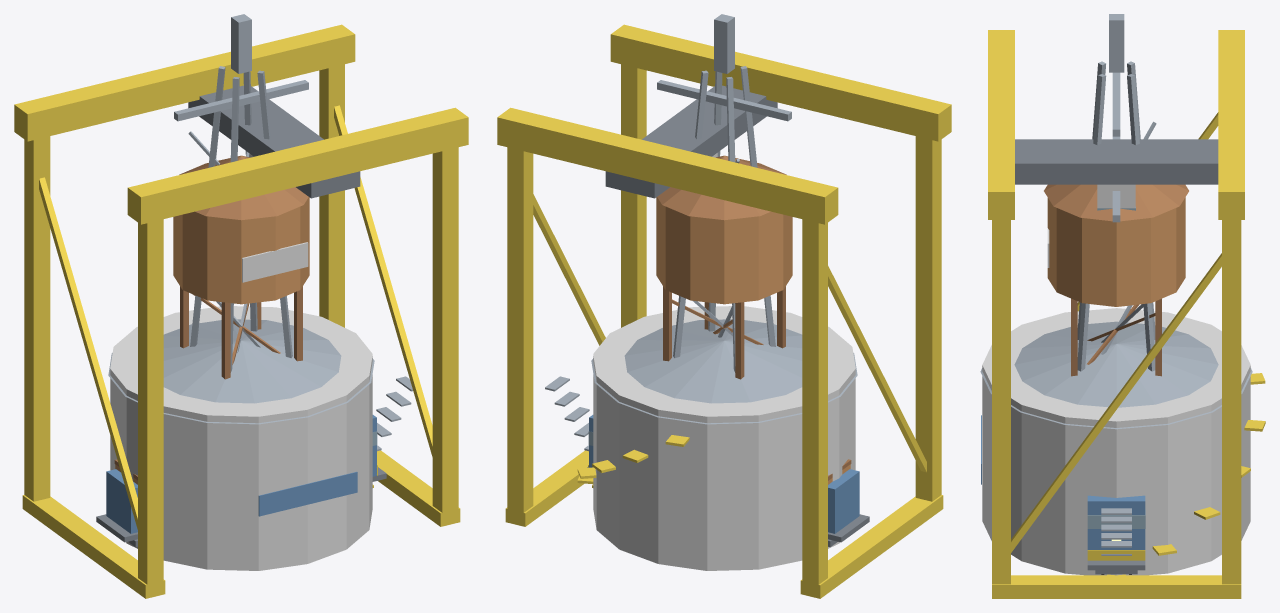
The model's file is common_industrial_kit.glb.
The picture shows the model from 3 angles, left to right: view 1: azimuth 30°, elevation 25°; view 2: azimuth 150°, elevation 25°; view 3: azimuth 270°, elevation 25°; orthographic projection.
Parts seen in each view (by area): view 1: cp_gantry_crane, cp_storage_tank, cp_water_tower, cp_pylon, cp_locomotive, cp_catwalk; view 2: cp_gantry_crane, cp_storage_tank, cp_water_tower, cp_pylon, cp_locomotive, cp_catwalk; view 3: cp_storage_tank, cp_gantry_crane, cp_water_tower, cp_pylon, cp_locomotive, cp_catwalk.
Boxes of the visible parts, <box> form: cp_gantry_crane: <box>14,24,468,598</box>; cp_storage_tank: <box>108,306,374,570</box>; cp_water_tower: <box>173,155,309,379</box>; cp_pylon: <box>174,14,308,372</box>; cp_locomotive: <box>96,415,386,547</box>; cp_catwalk: <box>376,376,412,451</box>; cp_gantry_crane: <box>497,24,951,598</box>; cp_storage_tank: <box>577,306,857,570</box>; cp_water_tower: <box>656,155,792,379</box>; cp_pylon: <box>657,14,791,372</box>; cp_locomotive: <box>587,415,869,547</box>; cp_catwalk: <box>545,376,589,451</box>; cp_storage_tank: <box>980,308,1265,575</box>; cp_gantry_crane: <box>988,30,1244,598</box>; cp_water_tower: <box>1044,184,1188,376</box>; cp_pylon: <box>1077,14,1156,371</box>; cp_locomotive: <box>1087,495,1145,574</box>; cp_catwalk: <box>1101,508,1131,555</box>.
Bounding box in the file's own units: 20.5 × 29.31 × 14.87.
